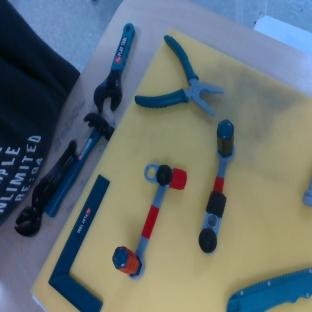non_pass: (196, 119, 240, 255)
pass: (105, 156, 190, 284)
